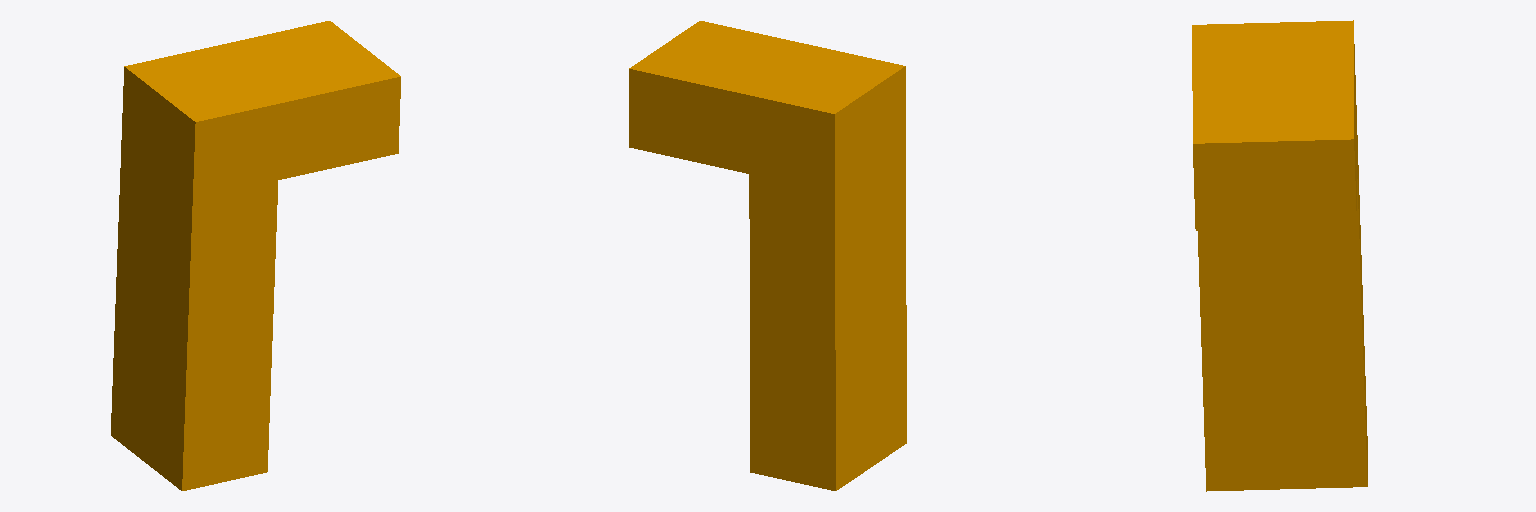
robot.urdf — cubicles_robot:
<?xml version="1.0"?>
<robot name="cubicles_robot">
  <link name="base_link">
    <visual>
      <geometry>
        <mesh filename="package://hpp-ompl-benchmark/mesh/cubicles_robot.stl"/>
      </geometry>
    </visual>
  </link>
</robot>

--- Facts derived from the render (not from the file) ---
3 views of the same robot in one strip: view 1: azimuth 30°, elevation 25°; view 2: azimuth 150°, elevation 25°; view 3: azimuth 270°, elevation 25° (orthographic).
Robot: cubicles_robot — 1 links, 0 joints (none); root link base_link; default pose: all joints at 0.
Links seen in each view (by area): view 1: base_link; view 2: base_link; view 3: base_link.
Boxes of the visible links, box(x1,y1,x2,y2) form: base_link: box(111, 21, 400, 490); base_link: box(629, 21, 906, 490); base_link: box(1192, 20, 1367, 491).
Bounding box of the posed robot: 1.19 × 0.745 × 2 m (x, y, z).
Meshes: 1 distinct files referenced, 1 mesh visuals loaded (1 binary STL).